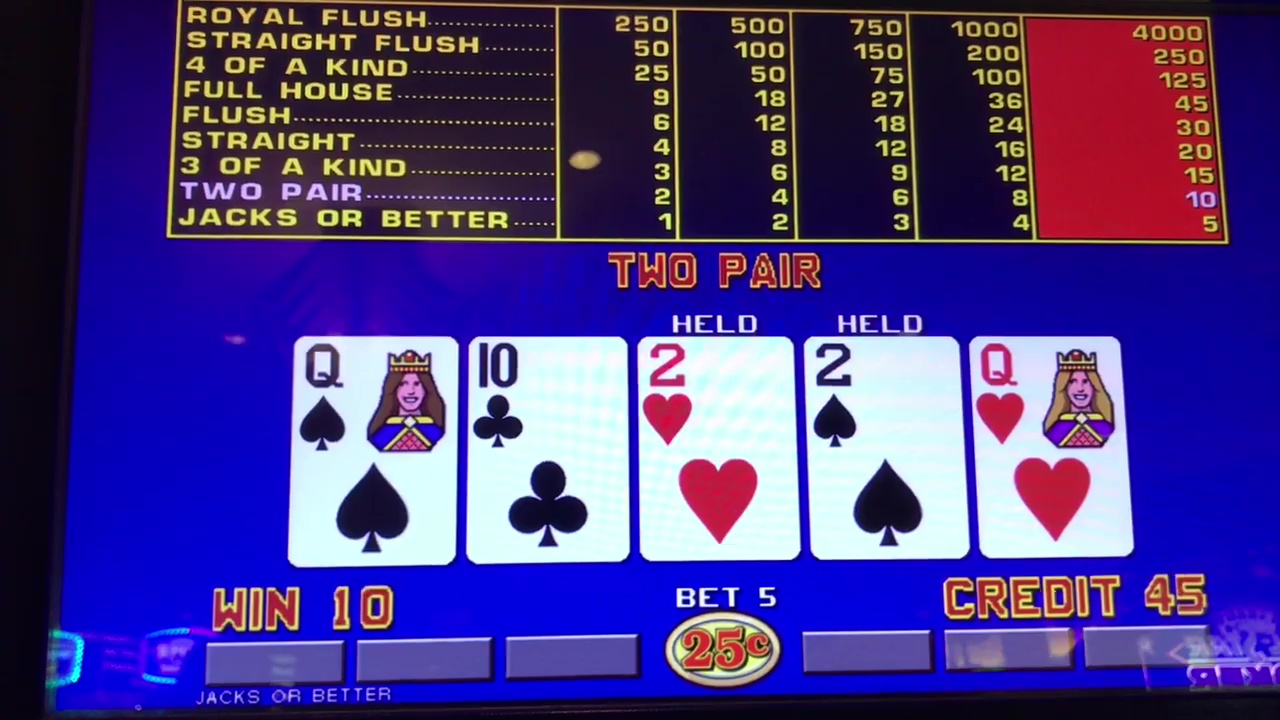CT: (470, 338, 627, 448)
H2: (640, 340, 800, 450)
HQ: (978, 337, 1123, 447)
S2: (814, 338, 960, 446)
SQ: (293, 337, 455, 448)
